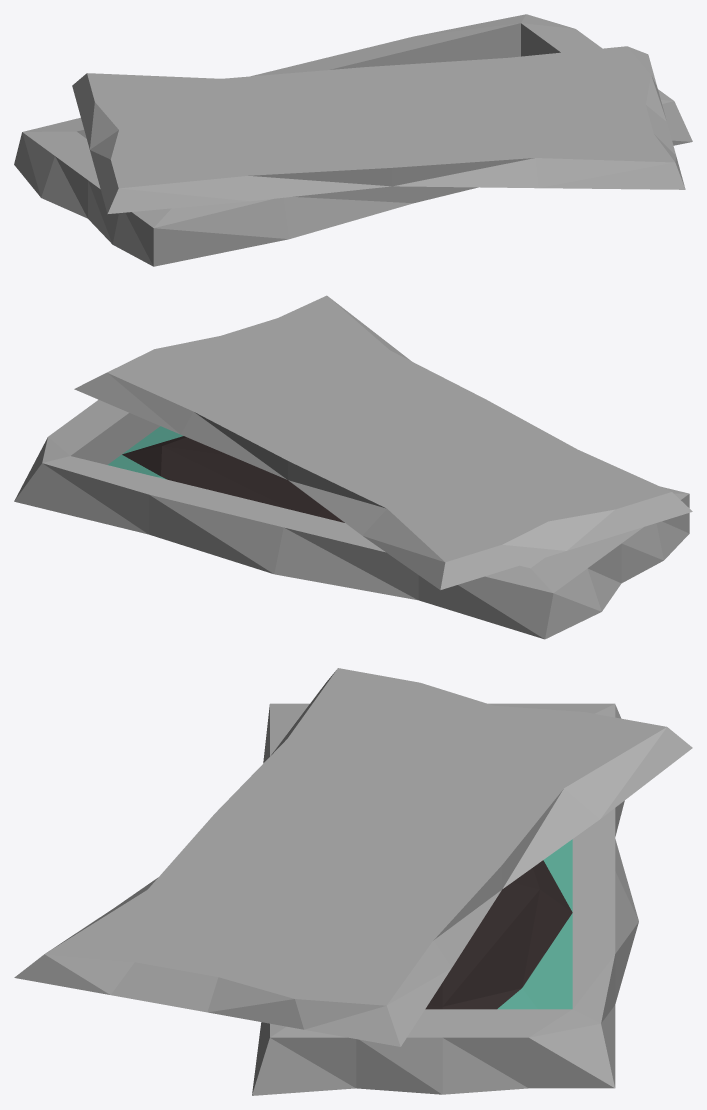
File: tombStone02.fbx
The picture shows the model from 3 angles, top to bottom: view 1: azimuth 30°, elevation 25°; view 2: azimuth 150°, elevation 25°; view 3: azimuth 270°, elevation 25°; orthographic projection. The views are drawn at different scales.
Visible parts, largest first — view 1: lowPolyIceAssets:lowPolyIceAssets:pCube3; view 2: lowPolyIceAssets:lowPolyIceAssets:pCube3; view 3: lowPolyIceAssets:lowPolyIceAssets:pCube3.
Boxes of the visible parts, bbox=[...] form: lowPolyIceAssets:lowPolyIceAssets:pCube3: bbox=[14, 14, 692, 266]; lowPolyIceAssets:lowPolyIceAssets:pCube3: bbox=[14, 295, 692, 639]; lowPolyIceAssets:lowPolyIceAssets:pCube3: bbox=[14, 668, 692, 1095].
Size of the model in its own units: 0.0844 by 0.00925 by 0.0664.
